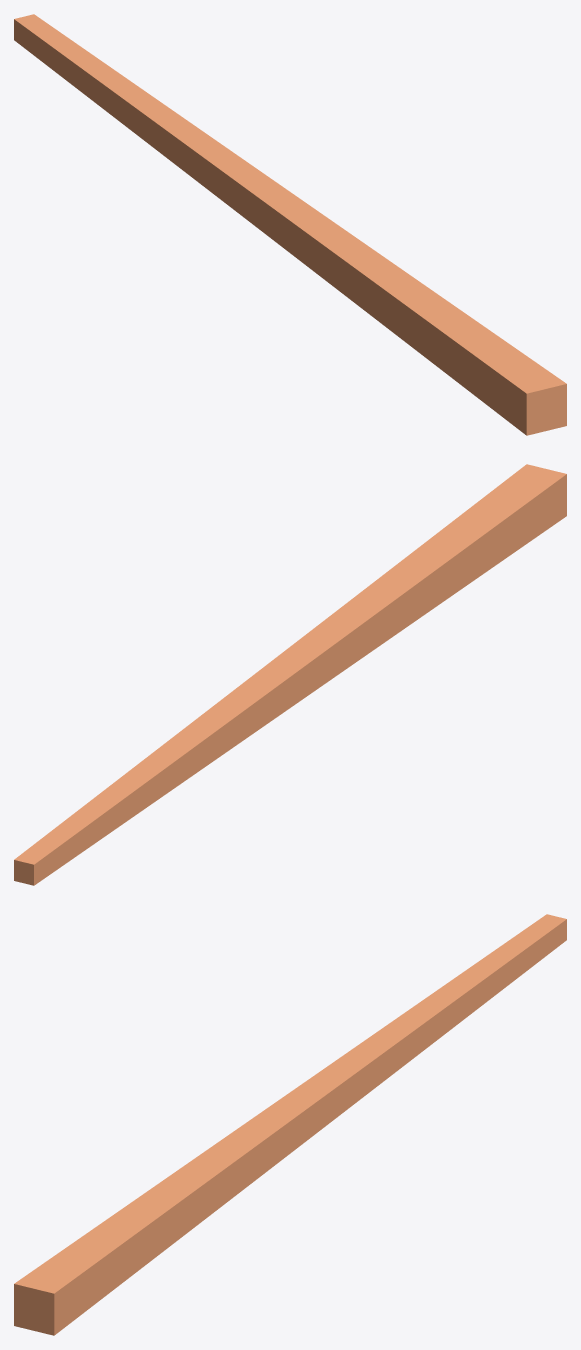
The model's file is chopstick.GLB.
3 renders of one model, top to bottom at view 1: azimuth 30°, elevation 25°; view 2: azimuth 150°, elevation 25°; view 3: azimuth 330°, elevation 25°, orthographic.
Parts seen in each view (by area): view 1: chopstick; view 2: chopstick; view 3: chopstick.
Boxes of the visible parts, x1,y1,x2,y2 form: chopstick: (14, 14, 566, 435); chopstick: (14, 464, 566, 885); chopstick: (14, 914, 566, 1335).
Bounding box in the file's own units: 0.02 × 0.02 × 0.45.
